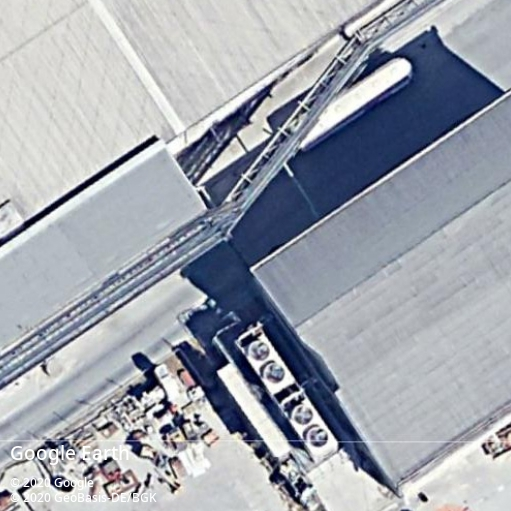Vent: (306, 426, 330, 450), (262, 362, 287, 385), (247, 340, 272, 362), (292, 404, 315, 426)
